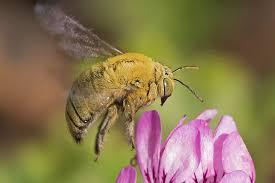Xylocopa: (35, 9, 198, 151)
